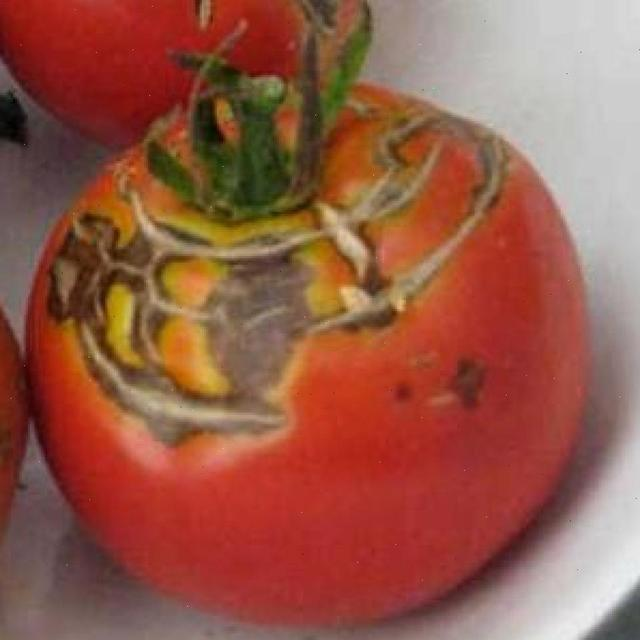Cracking Fruit: (46, 9, 334, 235)
